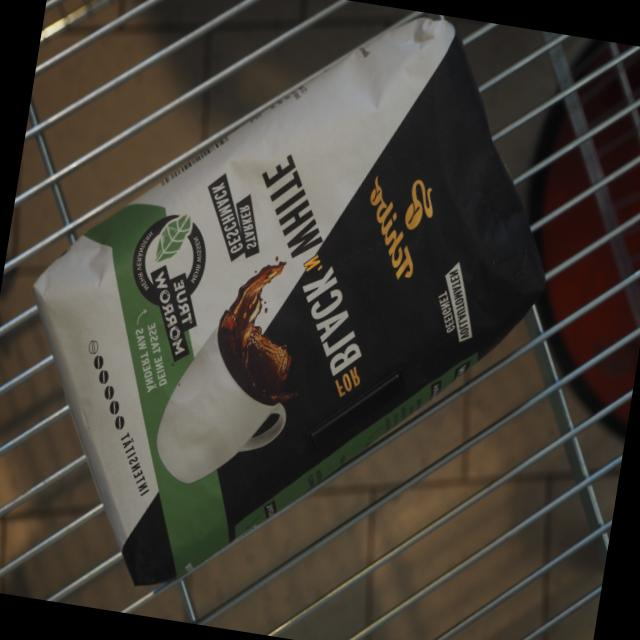BW Bohne: (0, 0, 593, 640)
